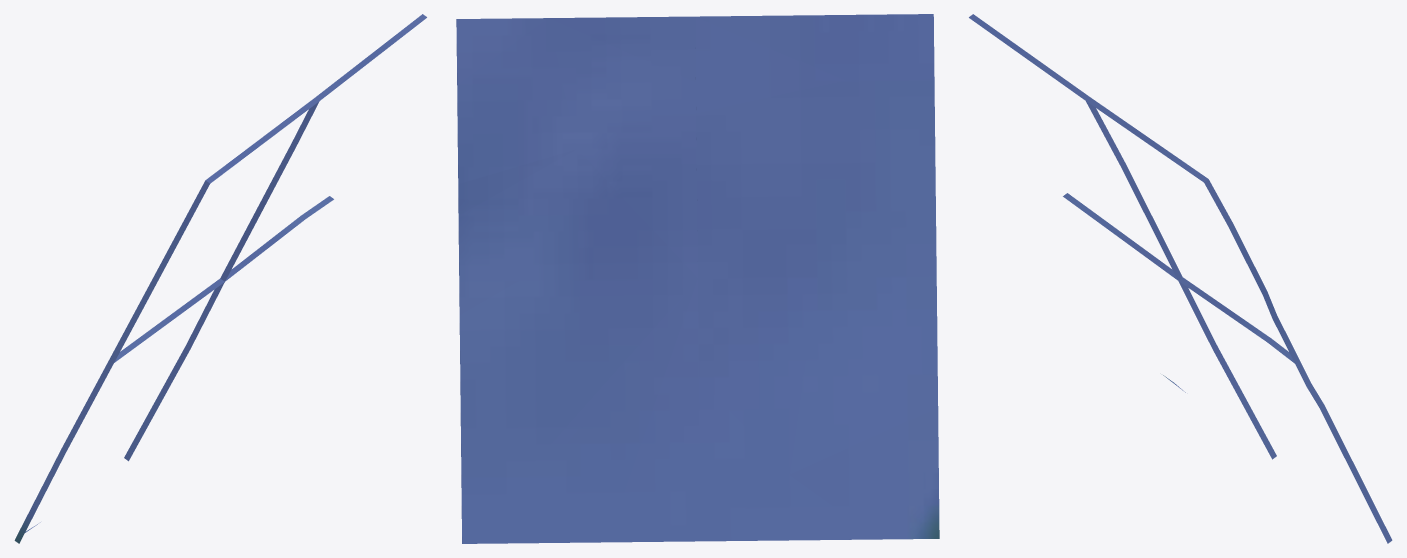
The picture shows the model from 3 angles, left to right: view 1: azimuth 30°, elevation 25°; view 2: azimuth 150°, elevation 25°; view 3: azimuth 270°, elevation 25°; orthographic projection. The views are drawn at different scales.
Size of the model in its own units: 4936 by 4434 by 4136.
Materials: 1 (1 with a texture image).
